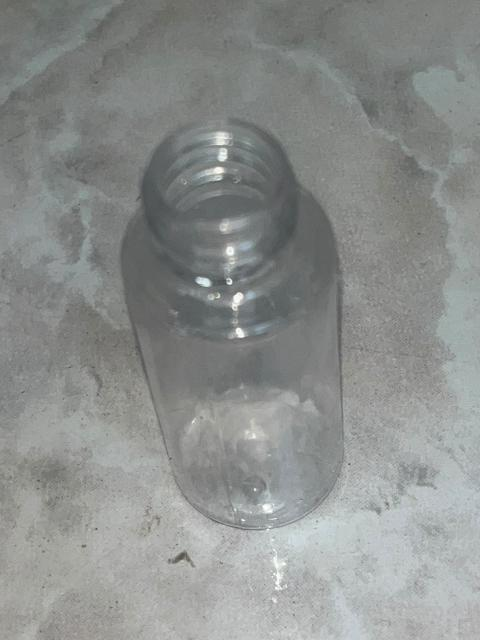PET: (100, 113, 393, 553)
